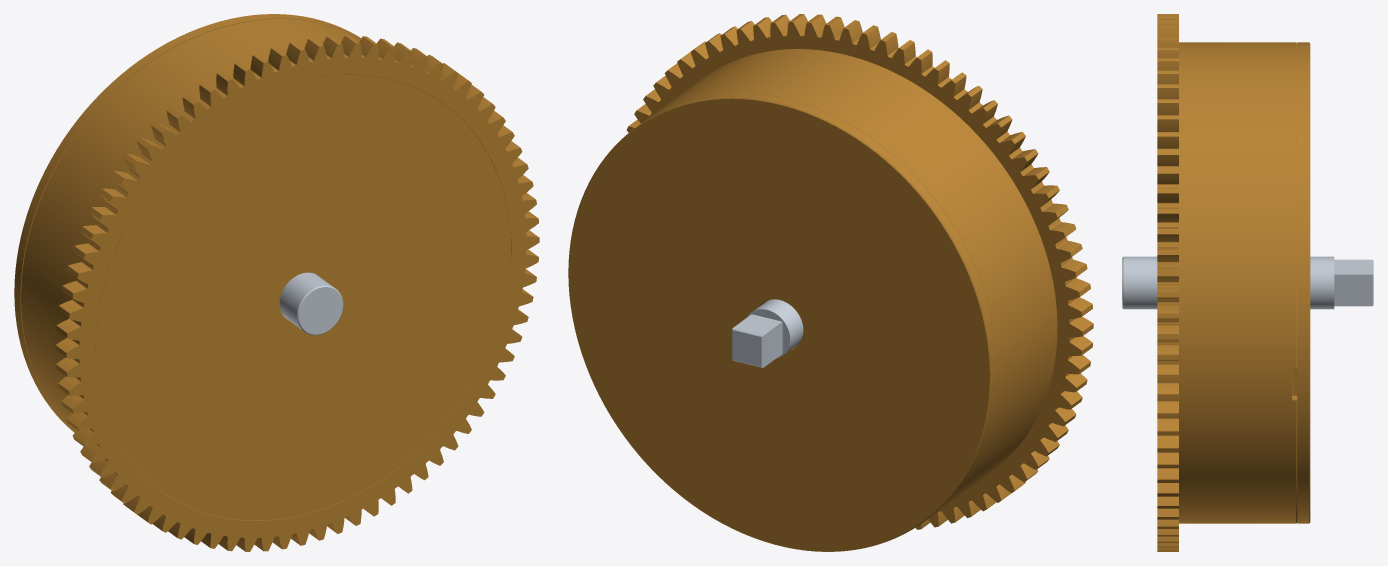
The model's file is barillet_fix.glb.
3 views of the same model, side by side, from view 1: azimuth 30°, elevation 25°; view 2: azimuth 150°, elevation 25°; view 3: azimuth 270°, elevation 25° (orthographic).
Parts seen in each view (by area): view 1: tamburo bride fix con dente di fermo e gola coperchio — otto, corona — 80 denti, m0.15, 20°, coperchio piano con risalto a scatto — ottone, albero con quadro superiore e quadro interno molla — acciaio; view 2: coperchio piano con risalto a scatto — ottone, tamburo bride fix con dente di fermo e gola coperchio — otto, corona — 80 denti, m0.15, 20°, albero con quadro superiore e quadro interno molla — acciaio; view 3: tamburo bride fix con dente di fermo e gola coperchio — otto, corona — 80 denti, m0.15, 20°, coperchio piano con risalto a scatto — ottone, albero con quadro superiore e quadro interno molla — acciaio.
Boxes of the visible parts, x1,y1,x2,y2 form: tamburo bride fix con dente di fermo e gola coperchio — otto: [21, 19, 511, 520]; corona — 80 denti, m0.15, 20°: [55, 35, 539, 551]; coperchio piano con risalto a scatto — ottone: [14, 14, 360, 432]; albero con quadro superiore e quadro interno molla — acciaio: [279, 272, 343, 335]; coperchio piano con risalto a scatto — ottone: [568, 93, 997, 551]; tamburo bride fix con dente di fermo e gola coperchio — otto: [648, 49, 1057, 513]; corona — 80 denti, m0.15, 20°: [626, 14, 1093, 529]; albero con quadro superiore e quadro interno molla — acciaio: [732, 299, 803, 367]; tamburo bride fix con dente di fermo e gola coperchio — otto: [1179, 42, 1297, 523]; corona — 80 denti, m0.15, 20°: [1157, 14, 1178, 551]; coperchio piano con risalto a scatto — ottone: [1297, 42, 1310, 523]; albero con quadro superiore e quadro interno molla — acciaio: [1122, 256, 1373, 309].
Size of the model in its own units: 12.3 by 12.3 by 5.75.
